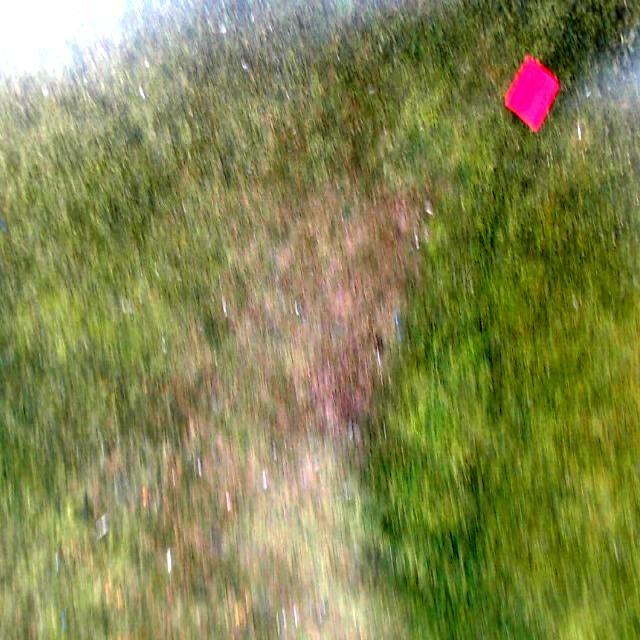red_square: (507, 59, 558, 127)
